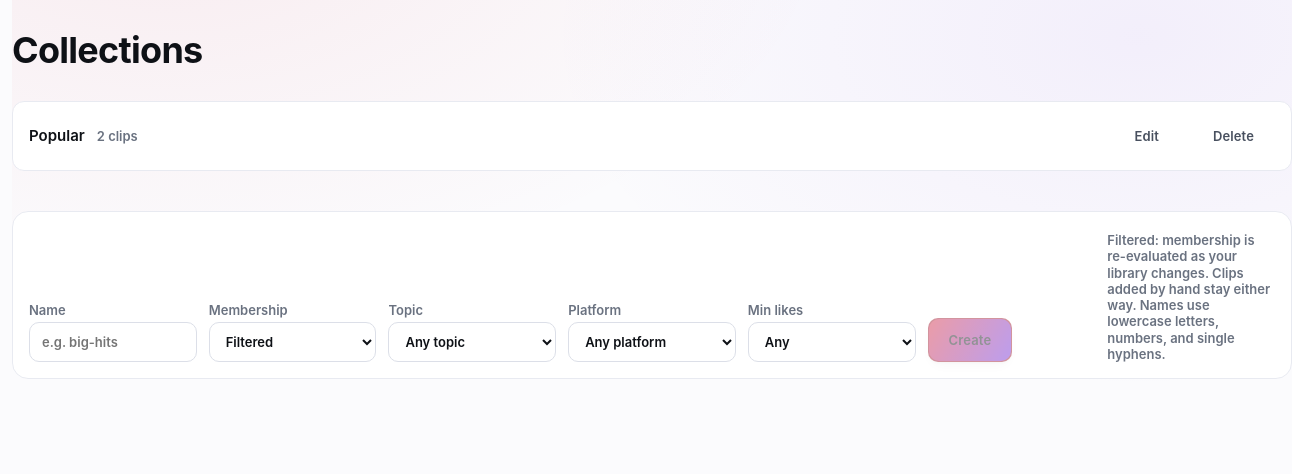
lists collections and creates a new one
The image size is (1292, 474).
Check: the link "Popular" is shown, box [29, 127, 85, 145]
Type "big-hits" into the field labelled "Name". click: (113, 342)
box: [29, 322, 197, 362]
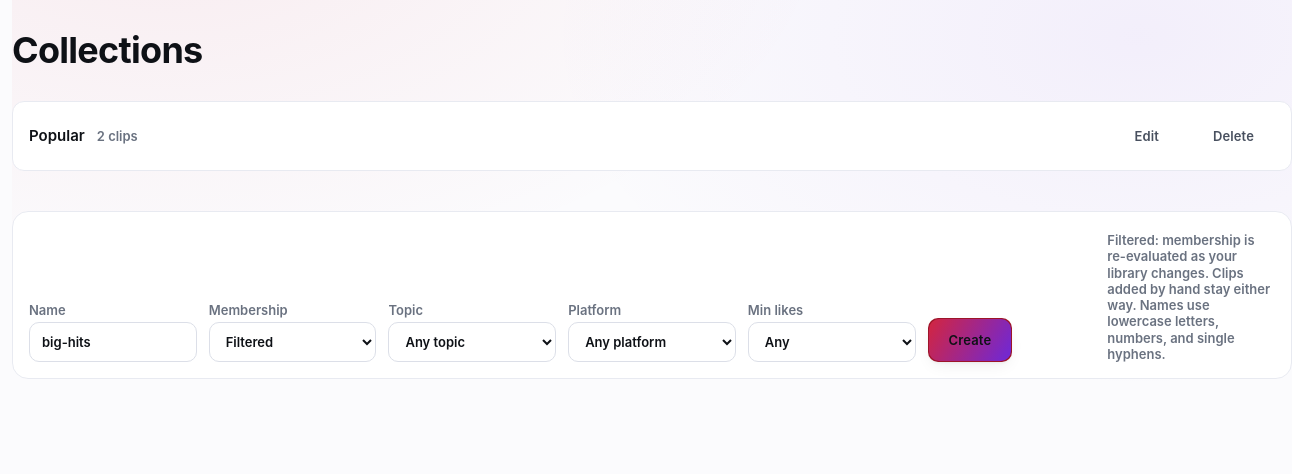
Click the button "Create". click: click(970, 340)
box: [928, 318, 1012, 362]
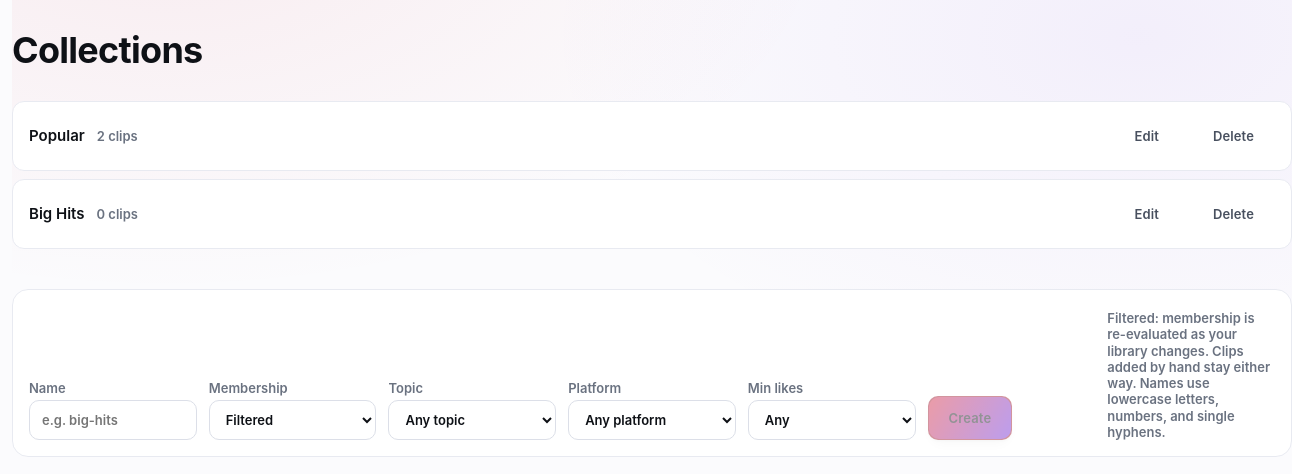
Check: the link "Big Hits" is shown, box [29, 205, 84, 223]
